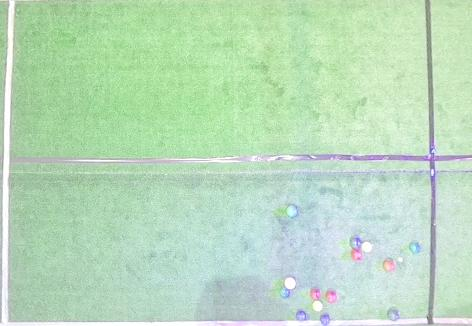blue: (296, 311, 307, 322), (320, 314, 330, 325)
green: (387, 309, 400, 321), (350, 237, 362, 249), (286, 206, 298, 217), (409, 242, 420, 253), (279, 288, 290, 298)
red: (325, 290, 338, 303), (383, 259, 395, 272), (350, 249, 363, 261), (310, 288, 322, 300), (285, 277, 296, 289)
vline: (424, 0, 471, 325), (0, 0, 18, 325)
white: (398, 257, 403, 262)
yellow: (312, 301, 323, 312), (362, 242, 372, 252)
